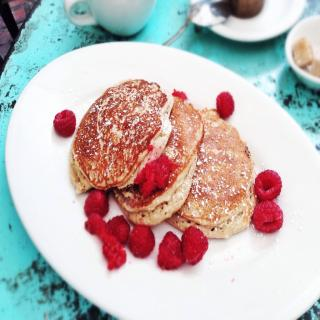Pancake: (166, 106, 260, 240), (118, 90, 206, 228), (68, 79, 169, 190)
